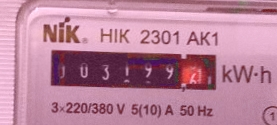0: (53, 58, 66, 79), (76, 58, 89, 78)
1: (120, 58, 131, 77)
3: (98, 61, 110, 80)
6: (187, 69, 198, 85)
9: (141, 58, 153, 78), (162, 60, 174, 79)
screen: (42, 42, 225, 99)
